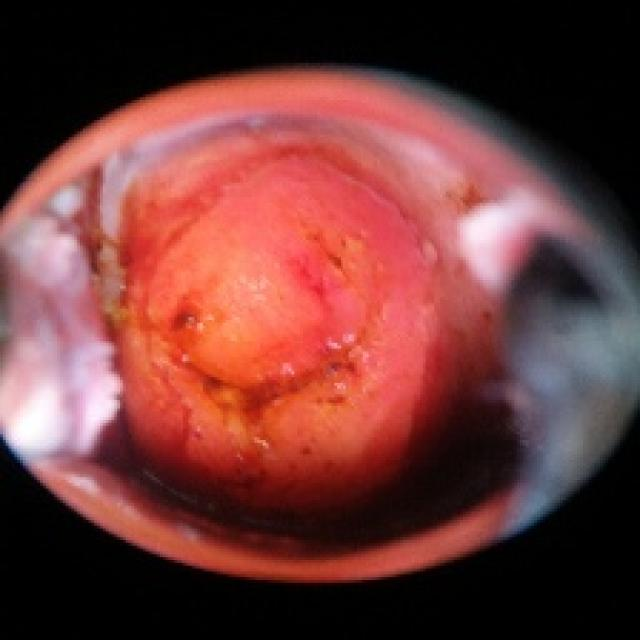type-2: (105, 152, 453, 514)
